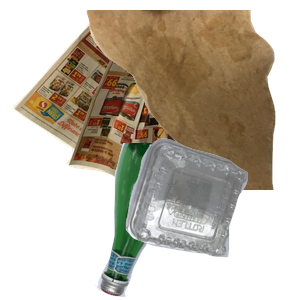glass: (93, 143, 284, 300)
paper: (10, 10, 217, 189)
plastic: (123, 136, 300, 300)
trash: (84, 10, 300, 190)
